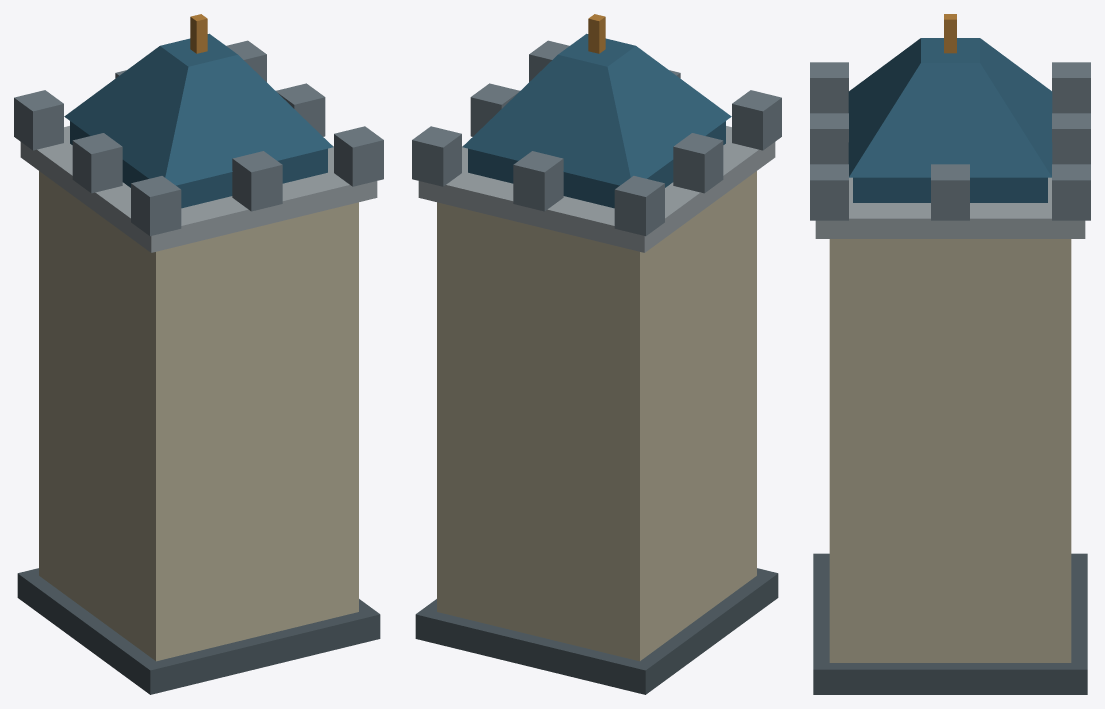
Rendered from Blockland_CourtyardTower_Simple.glb.
The picture shows the model from 3 angles, left to right: view 1: azimuth 30°, elevation 25°; view 2: azimuth 150°, elevation 25°; view 3: azimuth 270°, elevation 25°; orthographic projection. The views are drawn at different scales.
Visible parts, largest first — view 1: Blockland_CourtyardTower_Simple; view 2: Blockland_CourtyardTower_Simple; view 3: Blockland_CourtyardTower_Simple.
Boxes of the visible parts, x1,y1,x2,y2 form: Blockland_CourtyardTower_Simple: [14, 14, 383, 694]; Blockland_CourtyardTower_Simple: [412, 14, 781, 694]; Blockland_CourtyardTower_Simple: [810, 14, 1090, 694].
Bounding box in the file's own units: 3 × 7.36 × 3.02.
